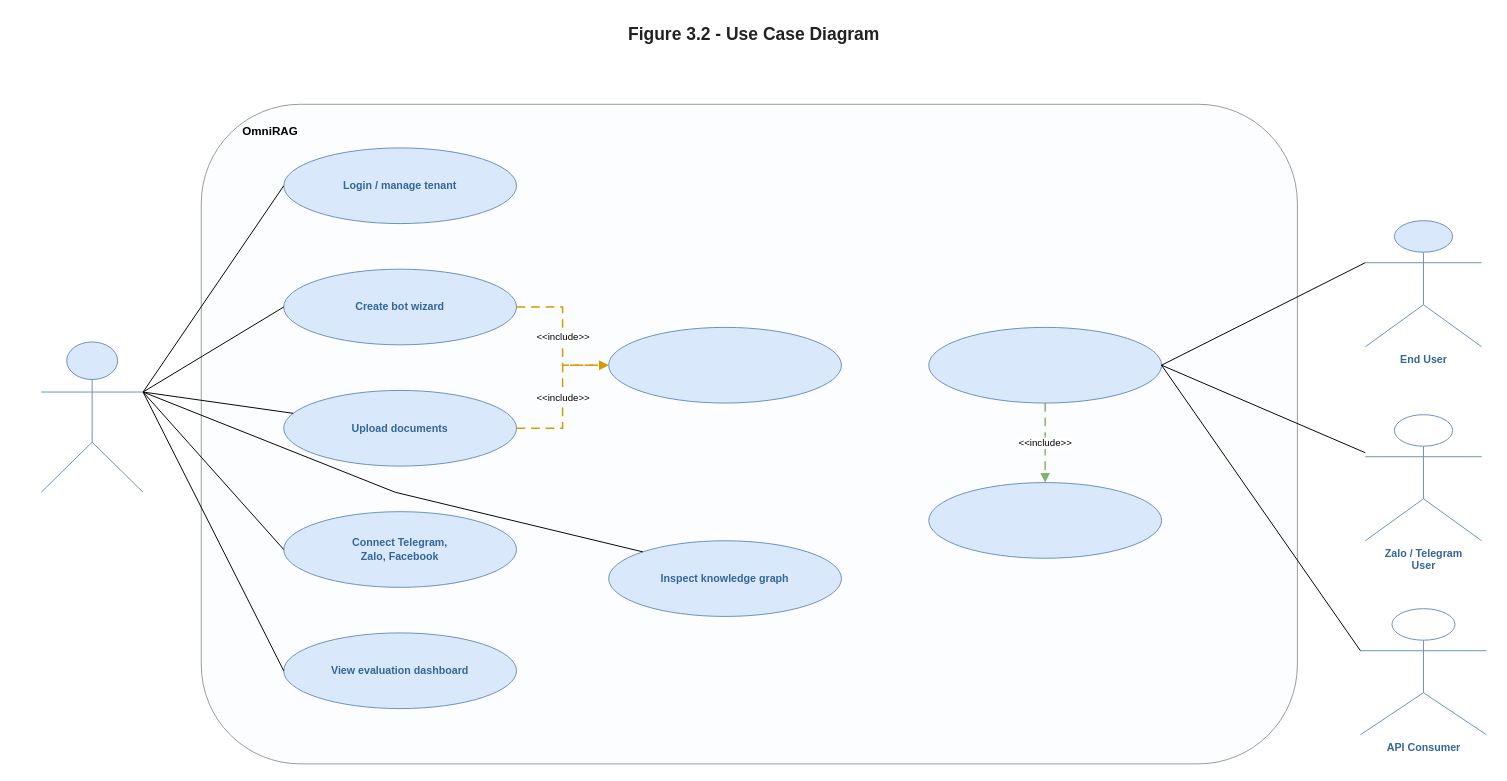
Some shapes in this 1507 by 781 pixel diagram are drawn without their labels. Here are the shapes that lost their labels. From the top down, the centre of each, then its label:
point (724, 364): Configure domain profile
point (1045, 364): Ask question
point (91, 416): Admin
point (1045, 520): Receive grounded answer
